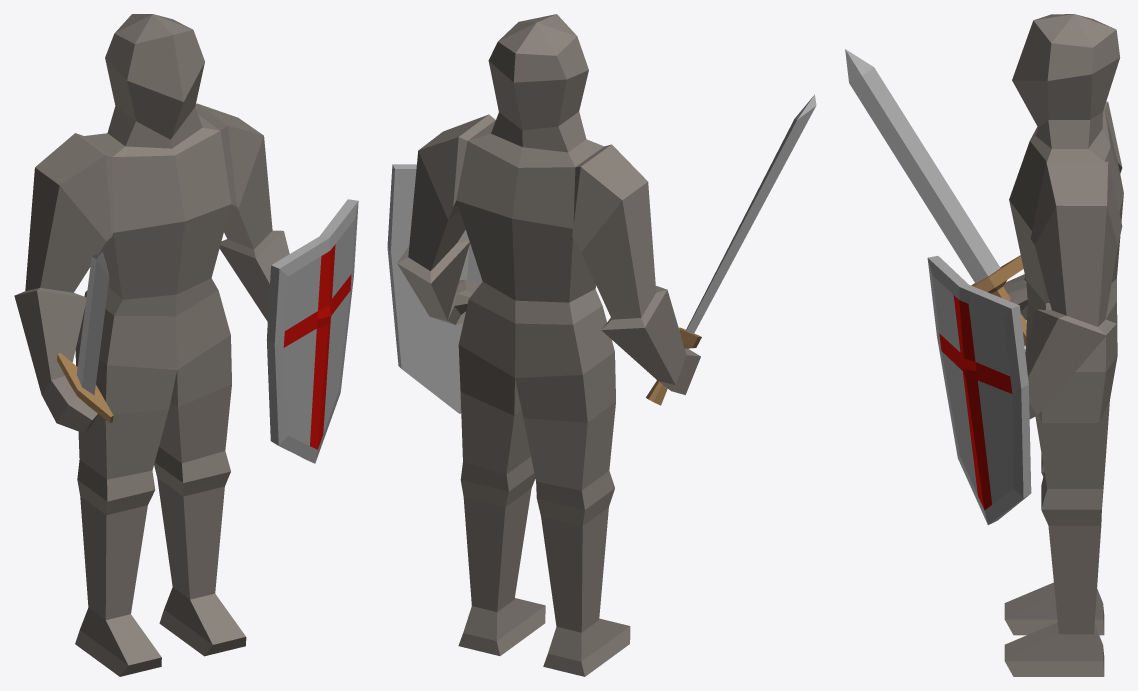
Rendered from man-knight.fbx.
3 renders of one model, left to right at view 1: azimuth 30°, elevation 25°; view 2: azimuth 150°, elevation 25°; view 3: azimuth 270°, elevation 25°, orthographic.
Visible parts, largest first — view 1: man-knight; view 2: man-knight; view 3: man-knight.
Boxes of the visible parts, x1,y1,x2,y2 form: man-knight: (14,14,358,676); man-knight: (387,14,816,676); man-knight: (845,14,1123,676).
Size of the model in its own units: 1.05 by 1.83 by 0.7333.
